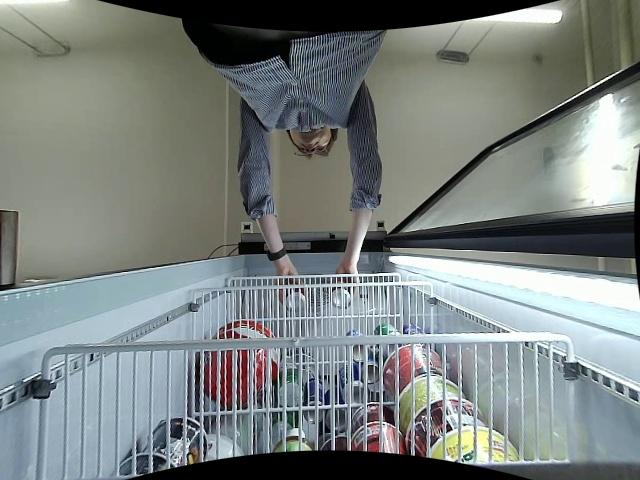00_hand: (328, 264, 363, 297), (277, 266, 305, 302)
